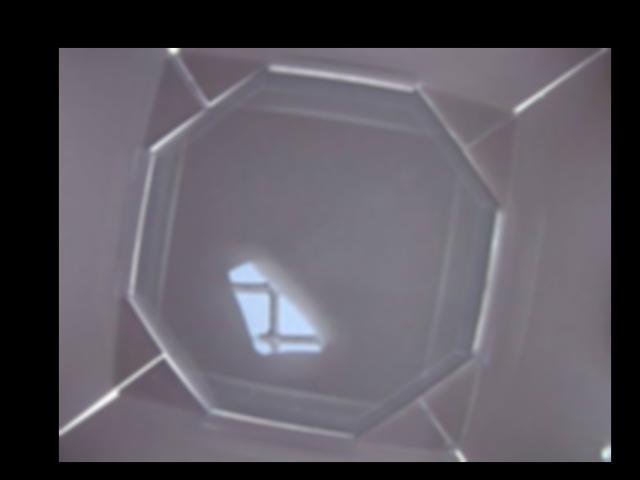China: (227, 262, 320, 355)
